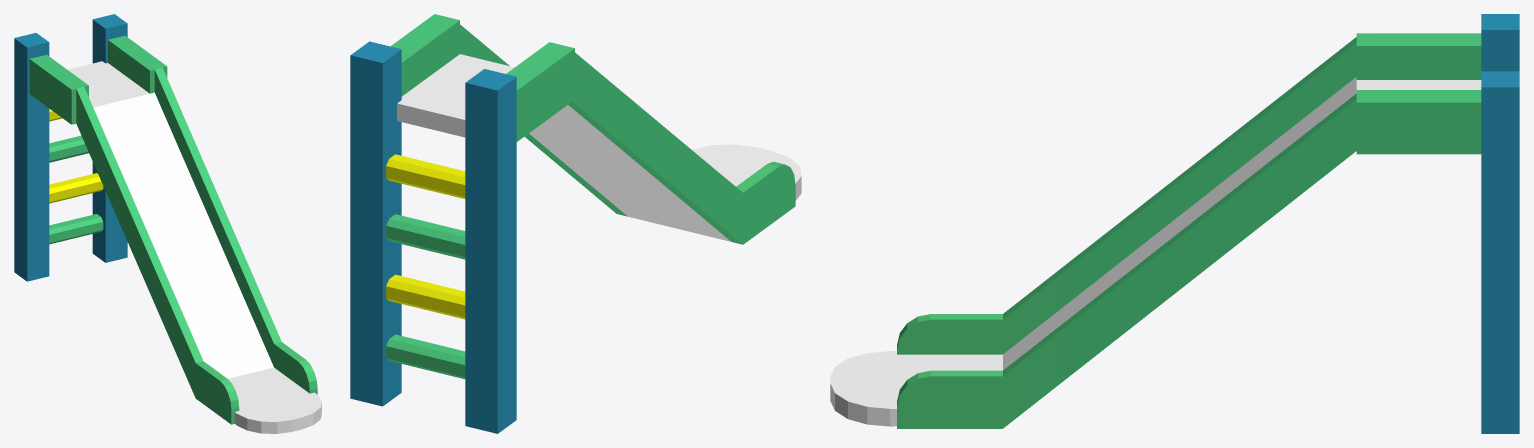
Rendered from SM_Slide.fbx.
3 renders of one model, left to right at view 1: azimuth 30°, elevation 25°; view 2: azimuth 150°, elevation 25°; view 3: azimuth 270°, elevation 25°, orthographic. The views are drawn at different scales.
Visible parts, largest first — view 1: SM_Slide; view 2: SM_Slide; view 3: SM_Slide.
Part boxes in pixels (x1,y1,x2,y2): SM_Slide: [14, 14, 321, 433]; SM_Slide: [350, 14, 801, 433]; SM_Slide: [830, 14, 1519, 433].
Bounding box in the file's own units: 289 × 646 × 1161.
